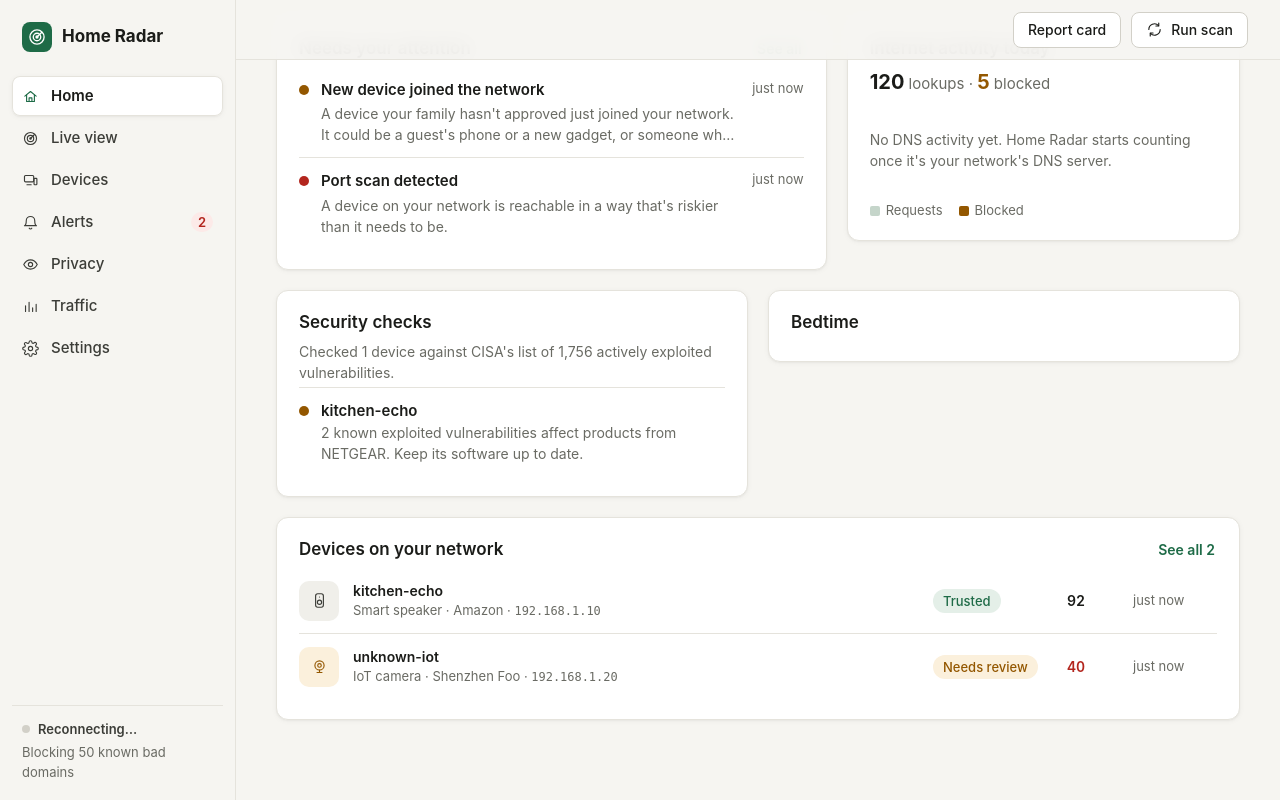
it: Vulnerability checks › phrases matches as affecting a maker's products, never as this device being vulnerable
(page scrolled)
expect the text "2 known exploited vulnerabilities affect products from NETGEAR" is shown: met, box [321,424,676,462]
Click the text "kitchen-echo" below "Devices on your network" at (398, 591), box [353,582,443,600]
(page scrolled)
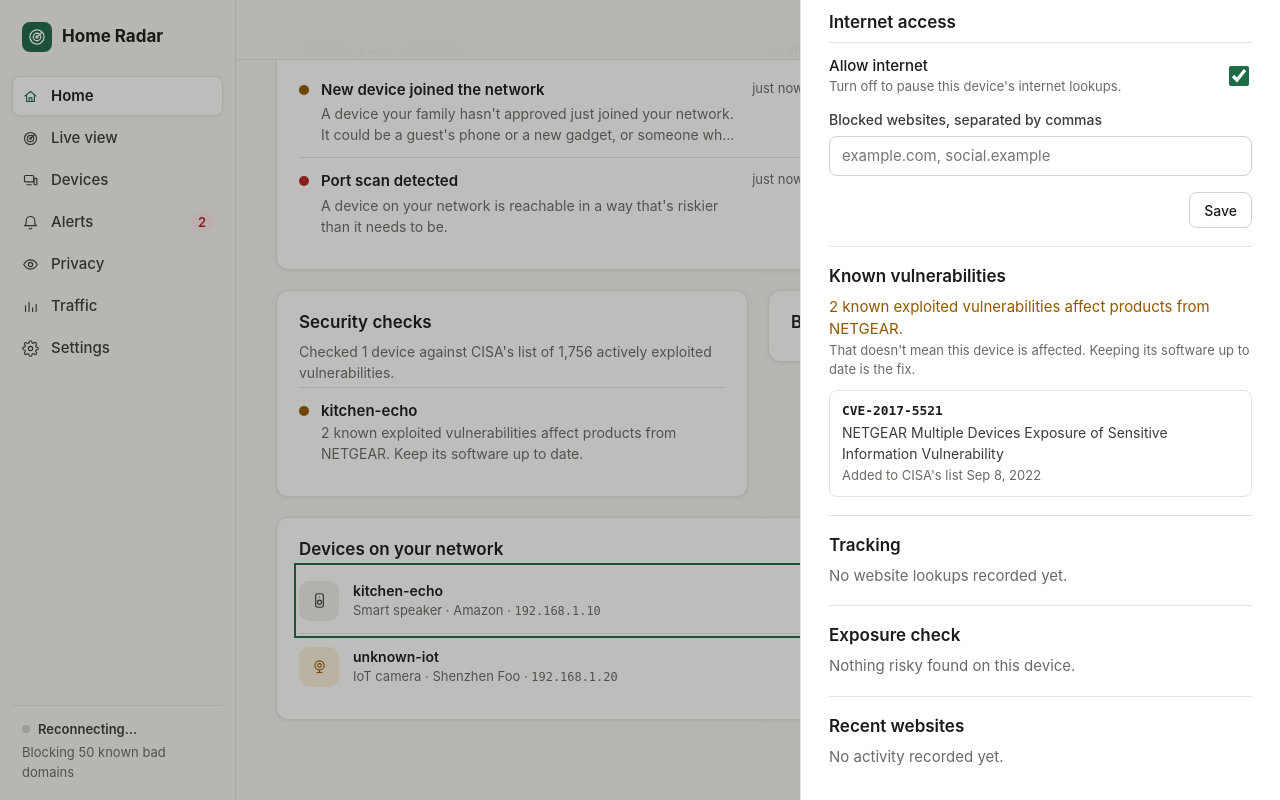
expect the text "affect products from NETGEAR" is shown: met, box [829,297,1210,338]
expect the text "doesn't mean this device is affected" is shown: met, box [829,342,1250,377]
expect the text "CVE-2017-5521" is shown: met, box [842,403,943,418]
